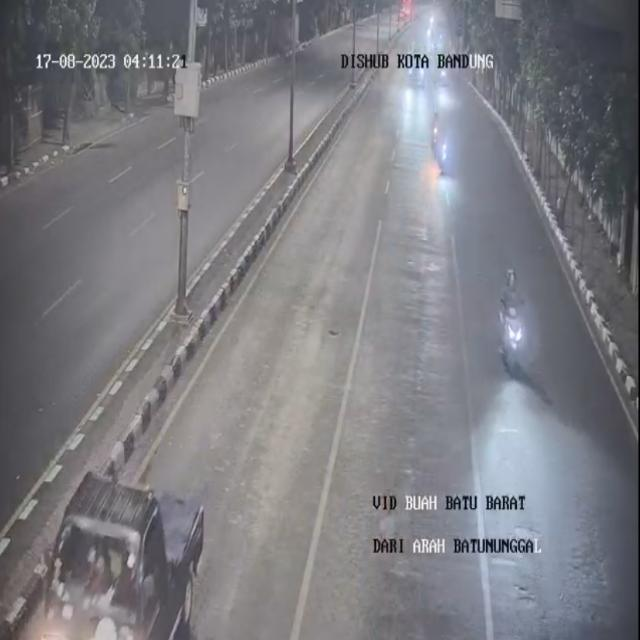cars: (36, 470, 236, 640)
motorcycle: (487, 245, 546, 394), (421, 96, 470, 188)
